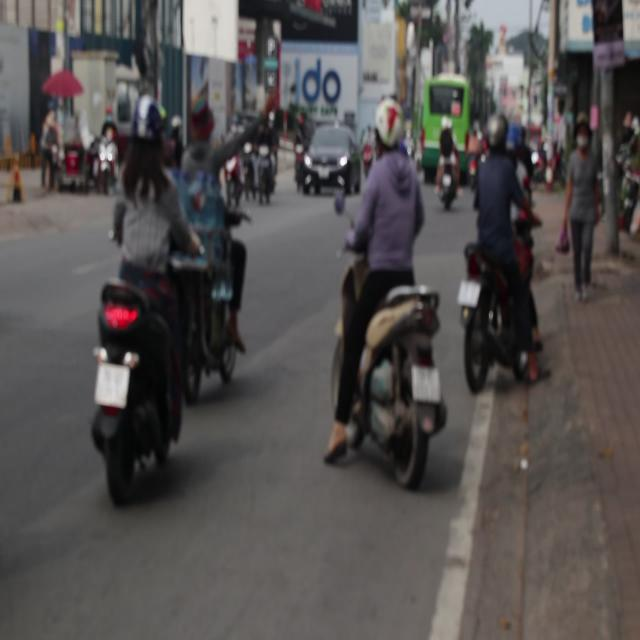bus: (418, 56, 472, 194)
car: (299, 128, 356, 193)
motorbike: (328, 273, 436, 492), (90, 274, 186, 505), (456, 217, 556, 421), (164, 221, 262, 377), (428, 159, 452, 208), (467, 145, 485, 190), (226, 138, 240, 195), (245, 140, 257, 200), (264, 140, 274, 203)
